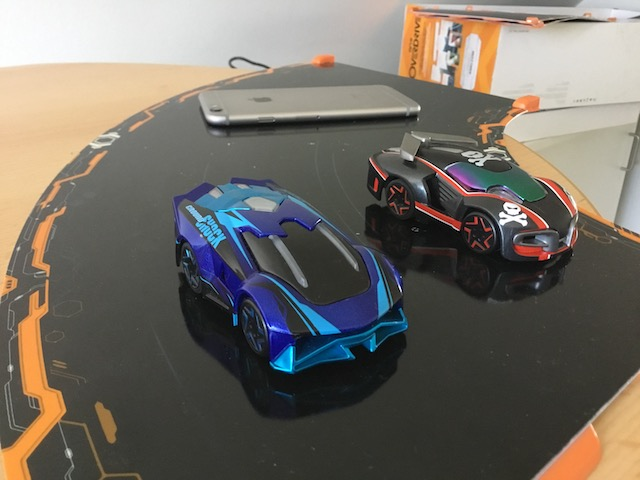car-blue: (167, 173, 410, 379)
car-red: (364, 126, 582, 268)
phone: (195, 81, 424, 130)
